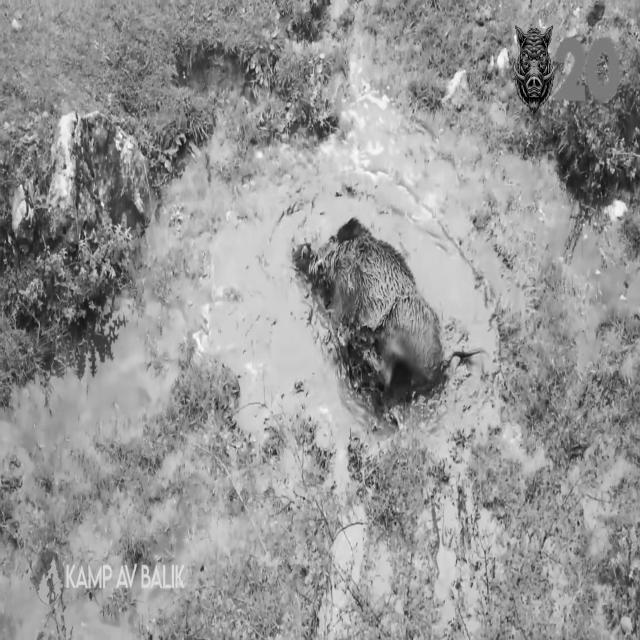boar: (293, 217, 443, 405)
